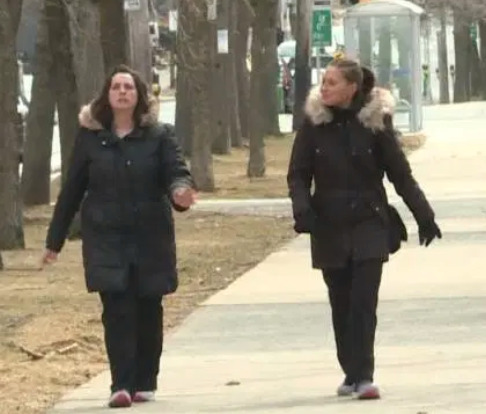Caution: (43, 58, 444, 403)
